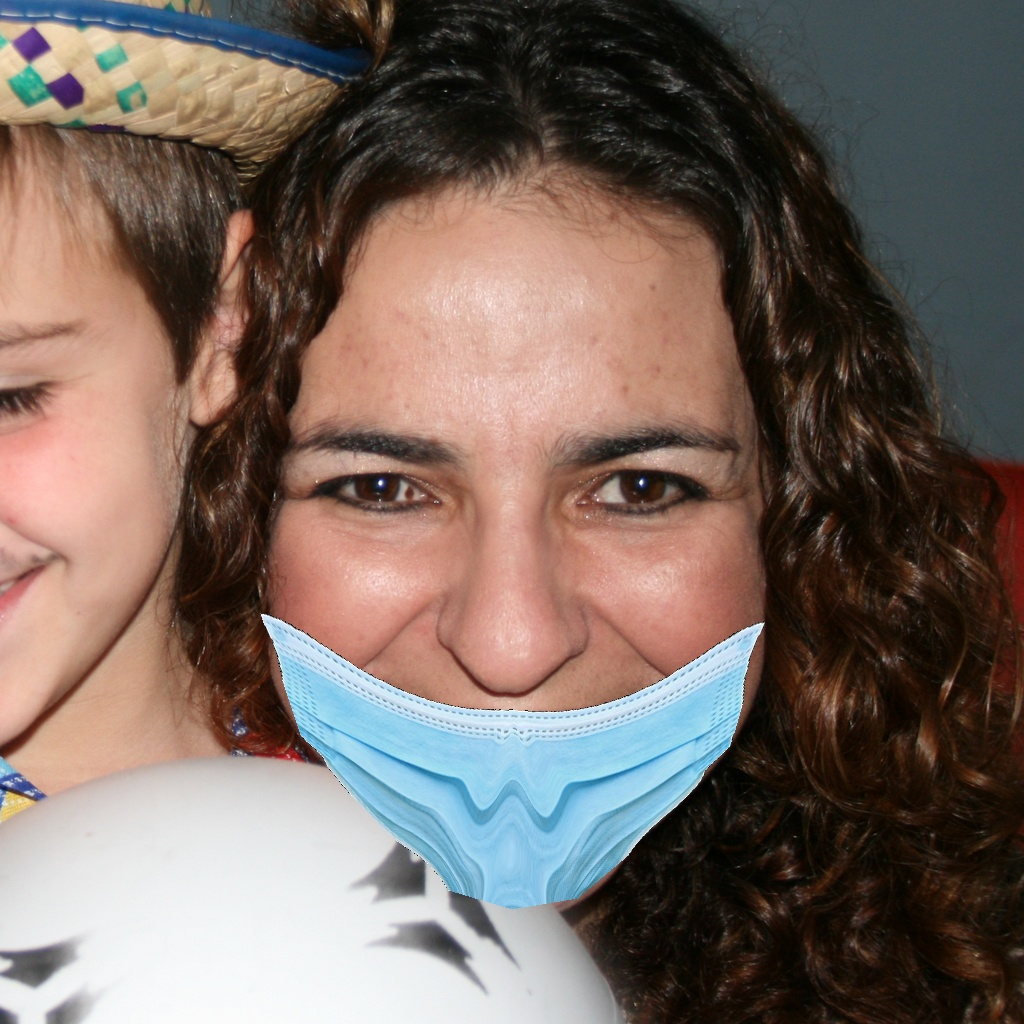mask_weared_incorrect: (241, 382, 803, 922)
